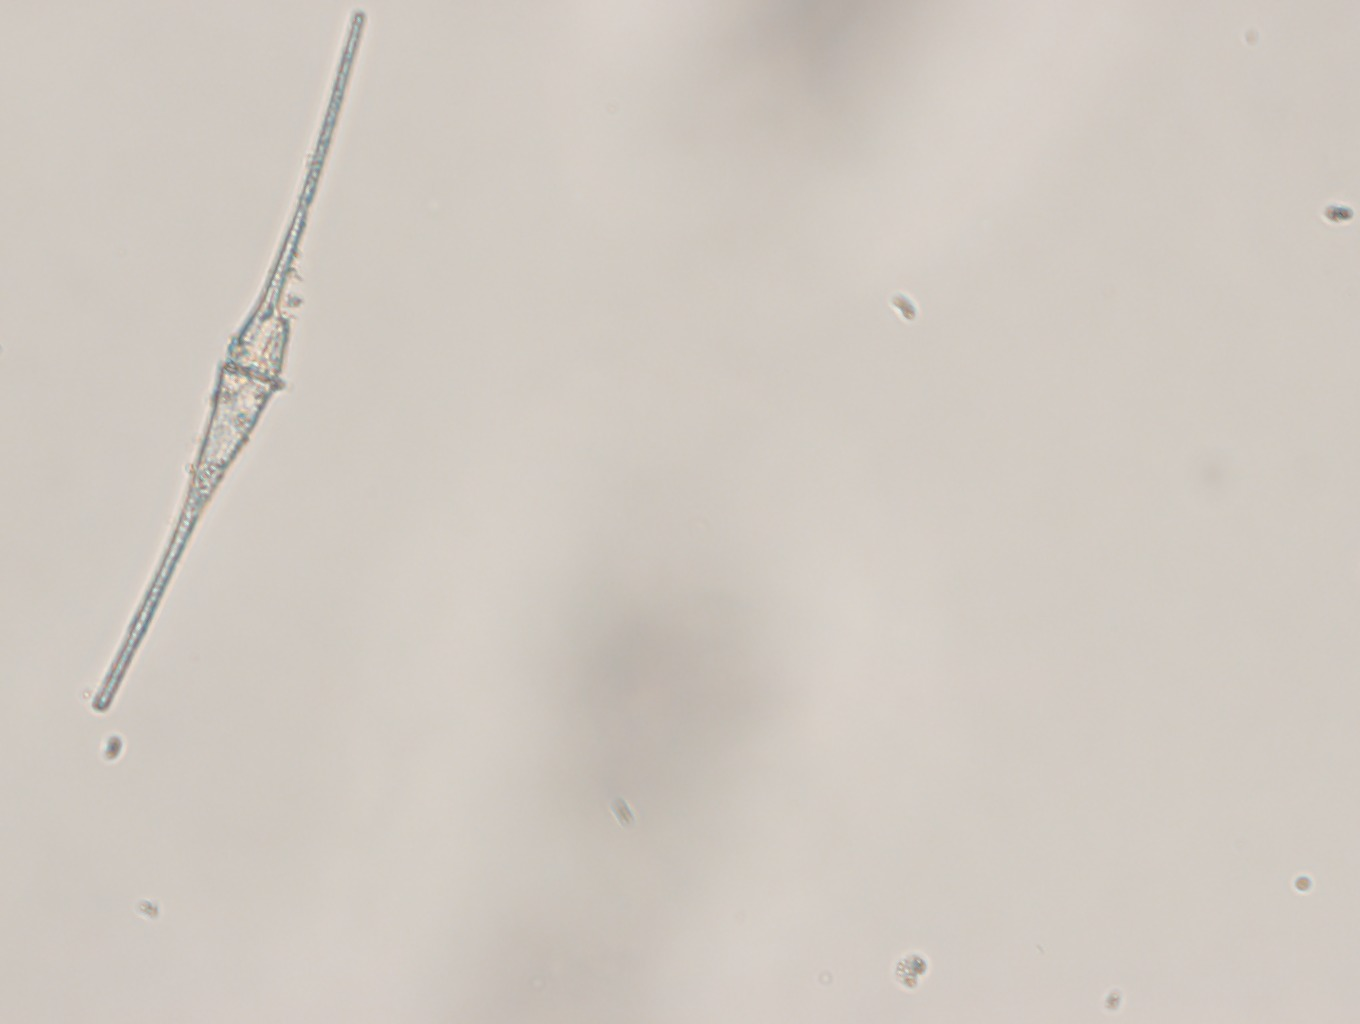ceratium fusus: (86, 3, 369, 716)
